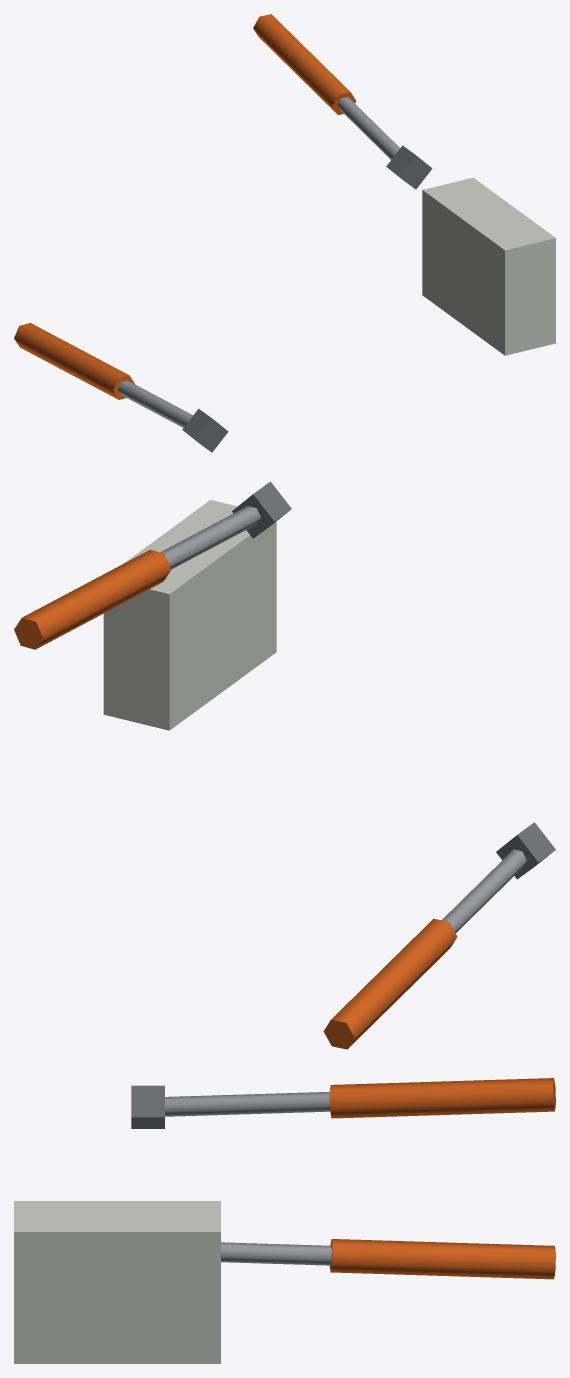
The model's file is u65m_field_ctl.obj.
The picture shows the model from 3 angles, top to bottom: view 1: azimuth 30°, elevation 25°; view 2: azimuth 150°, elevation 25°; view 3: azimuth 270°, elevation 25°; orthographic projection. The views are drawn at different scales.
Parts seen in each view (by area): view 1: u65m_field_ctl; view 2: u65m_field_ctl; view 3: u65m_field_ctl.
Boxes of the visible parts, x1,y1,x2,y2 form: u65m_field_ctl: (14, 14, 555, 452); u65m_field_ctl: (14, 481, 555, 1049); u65m_field_ctl: (14, 1078, 555, 1363).
Bounding box in the file's own units: 3.08 × 2.45 × 3.53.
